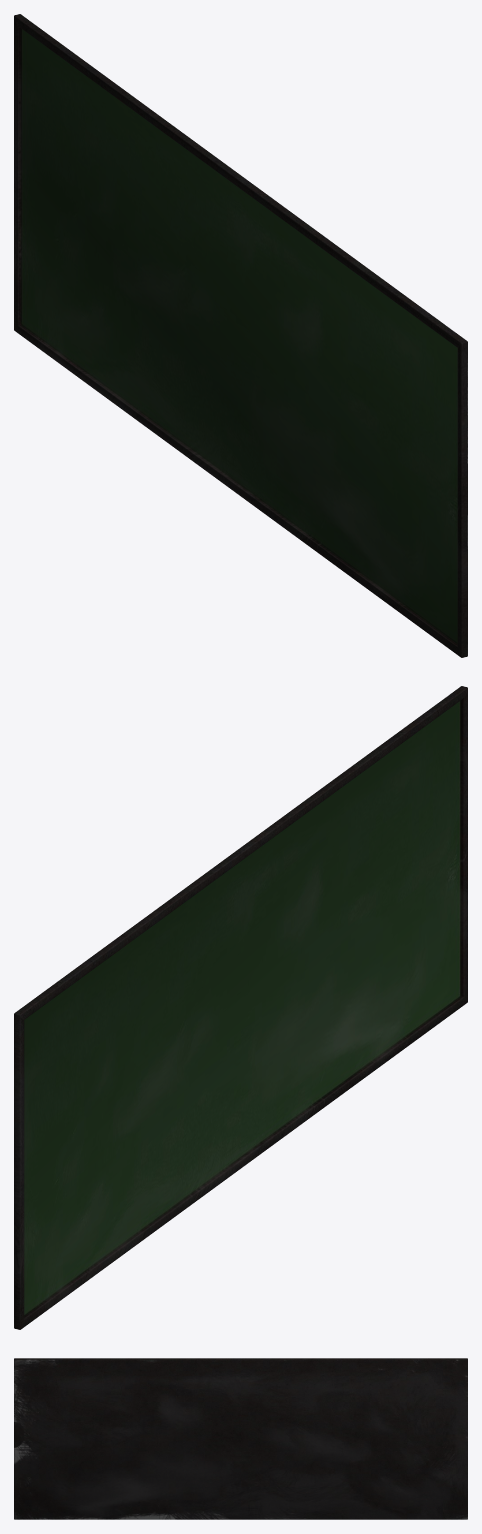
Rendered from board.glb.
3 views of the same model, one above another, from view 1: azimuth 30°, elevation 25°; view 2: azimuth 150°, elevation 25°; view 3: azimuth 270°, elevation 25° (orthographic). The views are drawn at different scales.
Parts seen in each view (by area): view 1: board; view 2: board; view 3: board.
Part boxes in pixels (bbox=[...]): board: bbox=[14, 14, 467, 657]; board: bbox=[14, 686, 467, 1329]; board: bbox=[14, 1358, 467, 1519].
Bounding box in the file's own units: 0.0228 × 1 × 2.57.
1 material, 1 textured.
